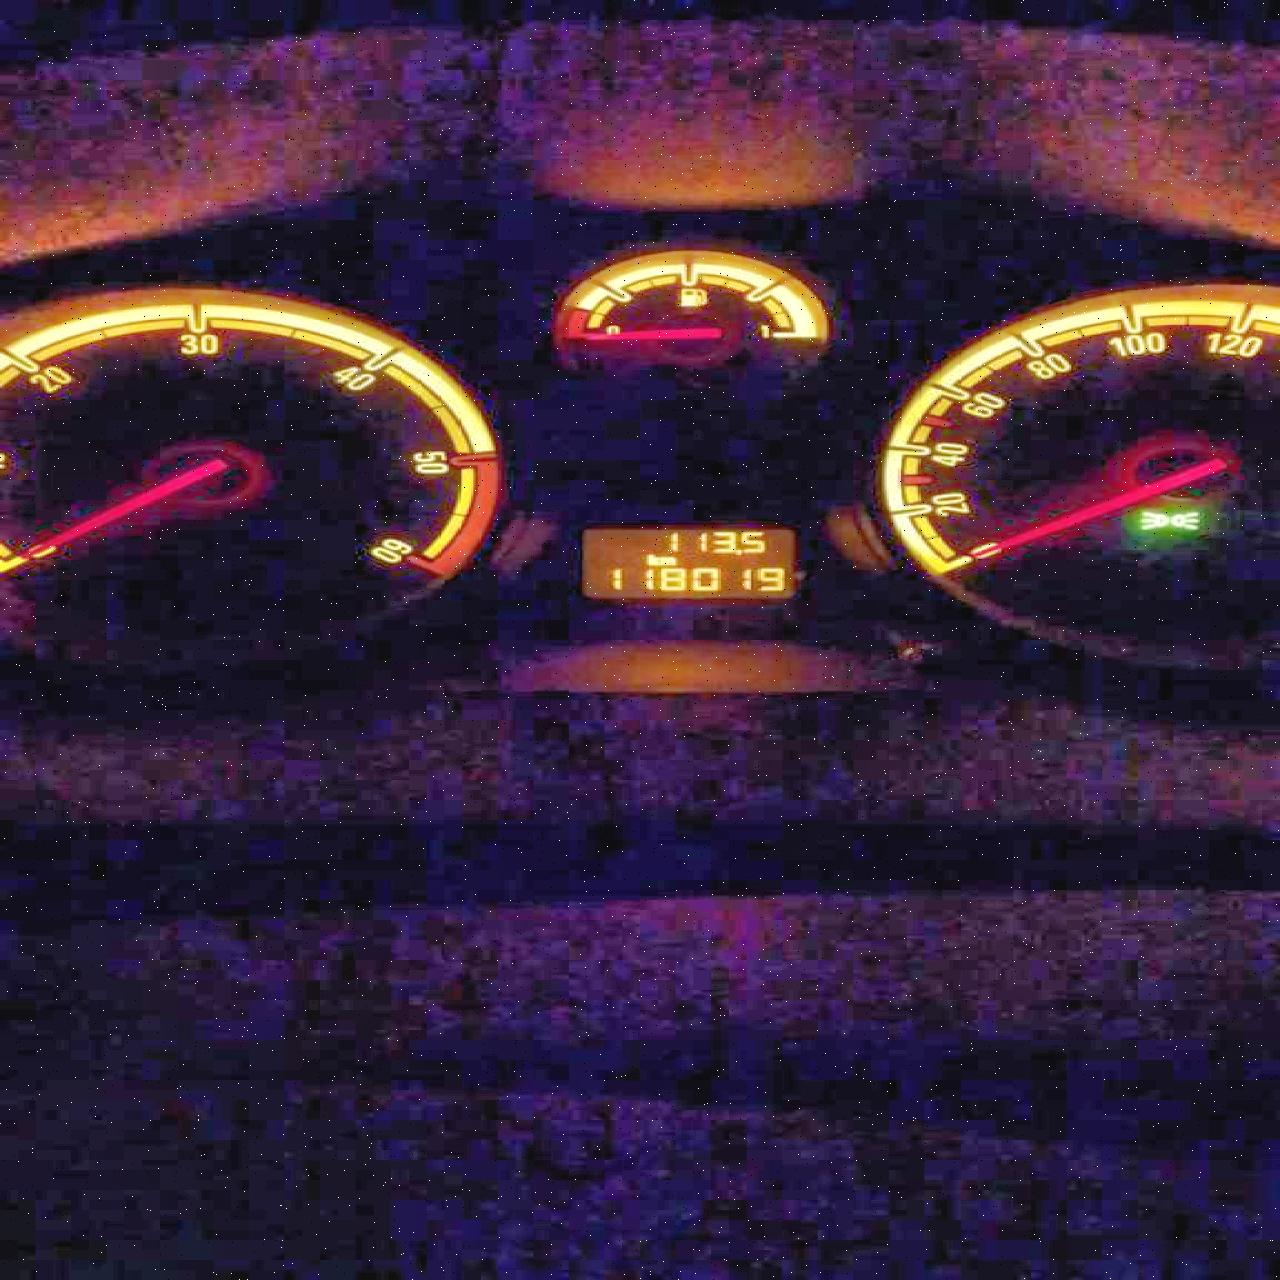-: (734, 547, 740, 554)
0: (689, 565, 719, 591)
1: (740, 566, 754, 592), (608, 565, 622, 590), (693, 530, 707, 554), (640, 567, 653, 591), (667, 530, 680, 552)
3: (709, 530, 734, 552)
5: (737, 530, 764, 552)
8: (655, 566, 687, 592)
9: (756, 566, 782, 590)
X: (658, 554, 678, 565), (645, 553, 658, 565)
odometer: (576, 525, 797, 600)
